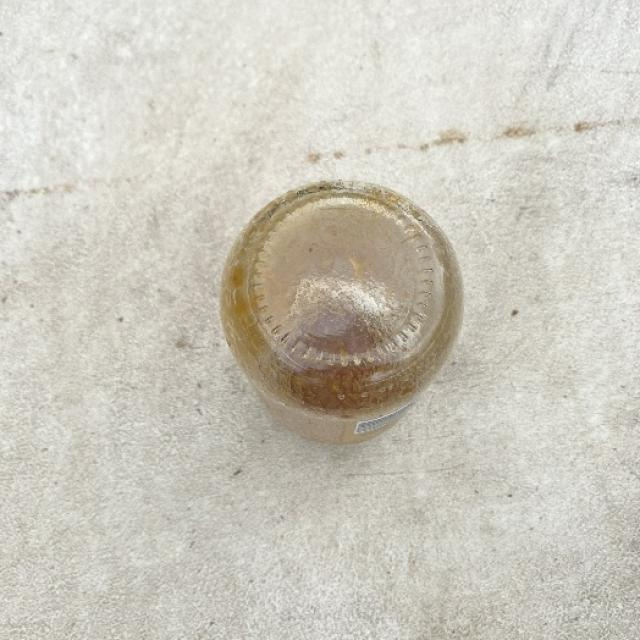inorganic: (221, 191, 467, 445)
